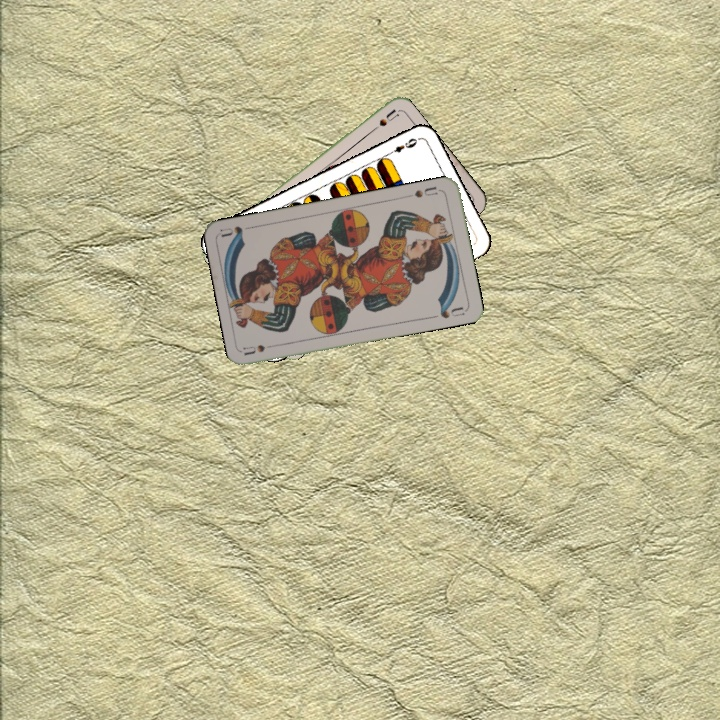E9: (383, 134, 421, 158)
SU: (364, 105, 400, 137), (403, 182, 444, 200), (241, 340, 281, 358)
